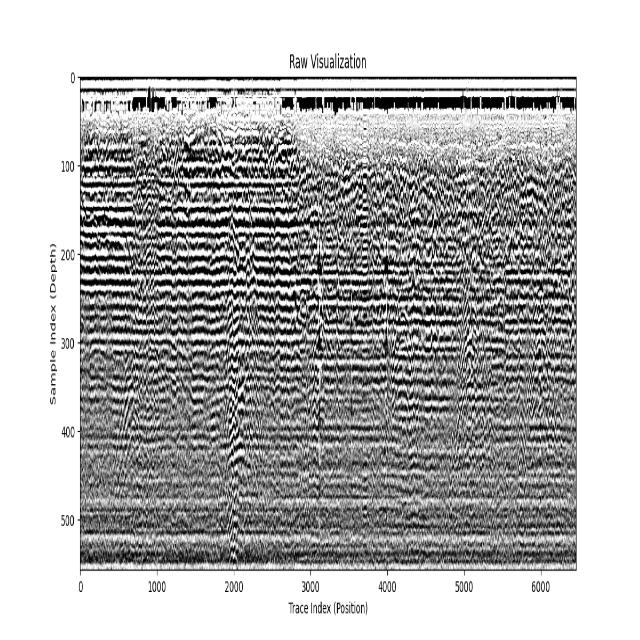anomaly: (117, 326, 165, 481), (224, 221, 244, 554), (383, 324, 421, 455), (531, 267, 551, 462), (464, 243, 478, 467), (316, 215, 324, 534), (383, 241, 391, 542)
